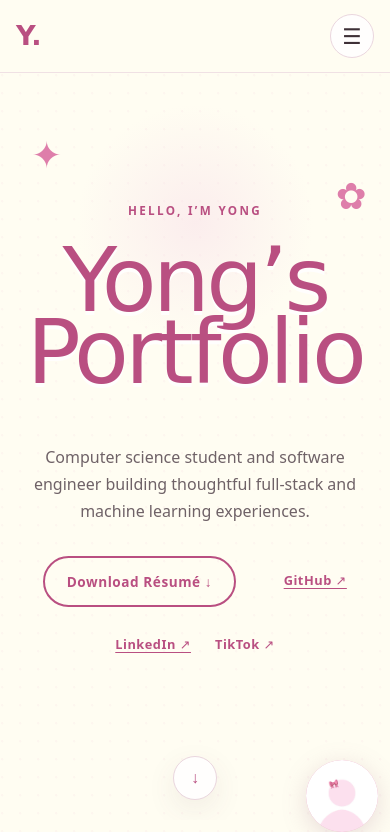
Test: portfolio page › opens and closes the mobile navigation accessibly
Click the button named "open navigation" at (352, 36), box 330,14 -> 374,58
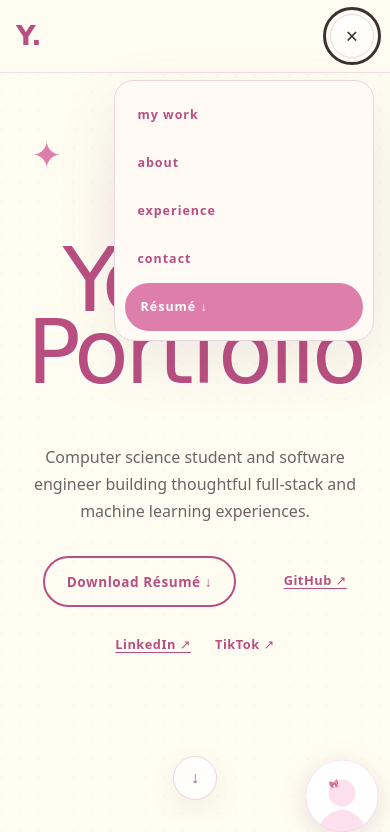
Now the button named "open navigation" is expanded, box 330,14 -> 374,58
Click the link "about" at (158, 162), box 137,154 -> 179,171
(page scrolled)
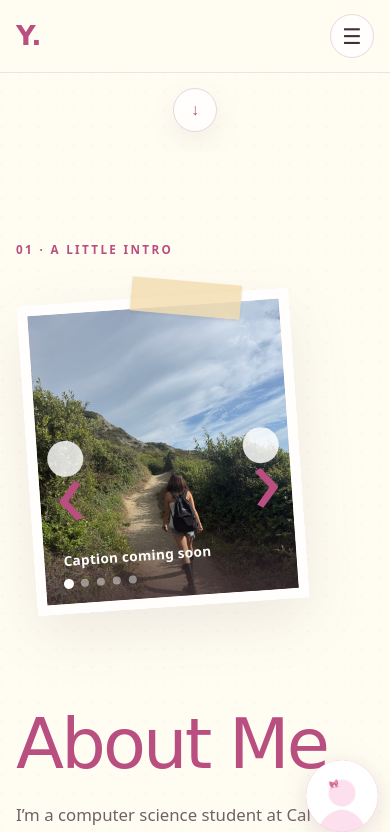
Now the button named "open navigation" is collapsed, box 330,14 -> 374,58
